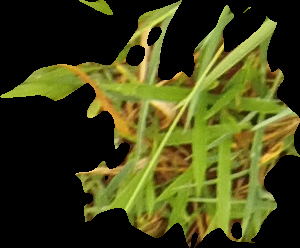grass: (1, 1, 297, 246)
